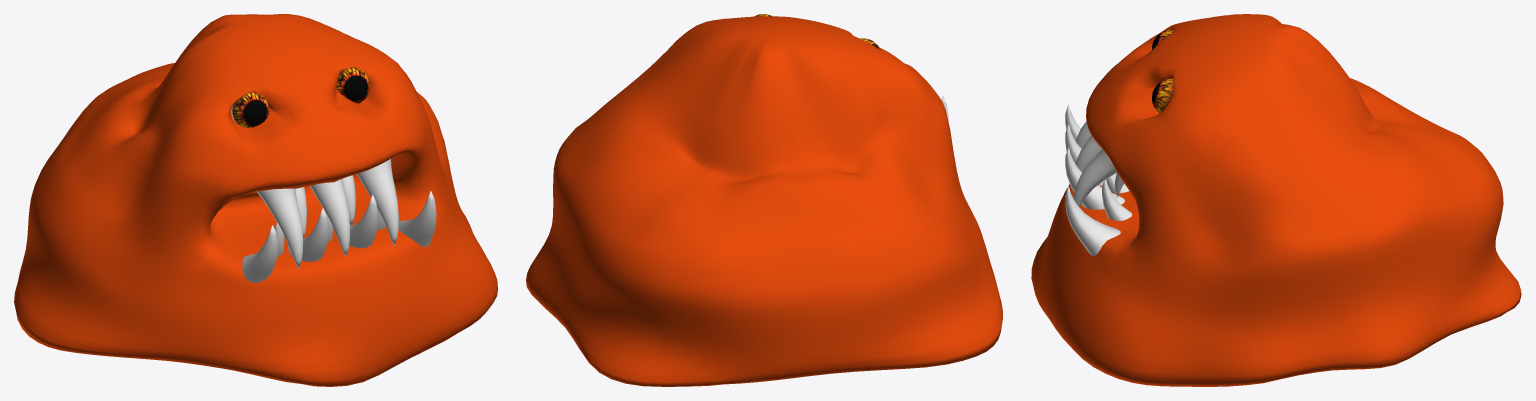
The model's file is enemy_unten.fbx.
3 renders of one model, left to right at view 1: azimuth 30°, elevation 25°; view 2: azimuth 150°, elevation 25°; view 3: azimuth 270°, elevation 25°, orthographic.
Visible parts, largest first — view 1: pSphere7; view 2: pSphere7; view 3: pSphere7.
Part boxes in pixels (x1=…): pSphere7: x1=14, y1=14, x2=497, y2=386; pSphere7: x1=526, y1=14, x2=1002, y2=386; pSphere7: x1=1031, y1=14, x2=1521, y2=386.
Size of the model in its own units: 4.11 by 2.56 by 4.07.
3 materials, 1 textured.
